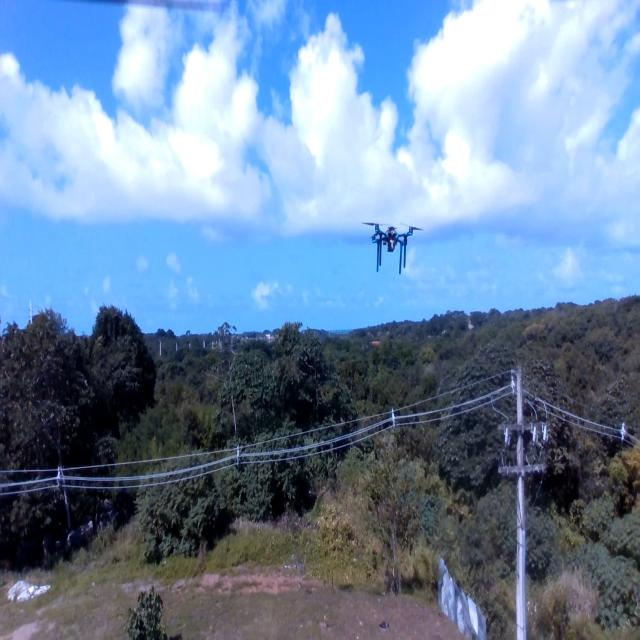-uav-: (358, 204, 428, 282)
